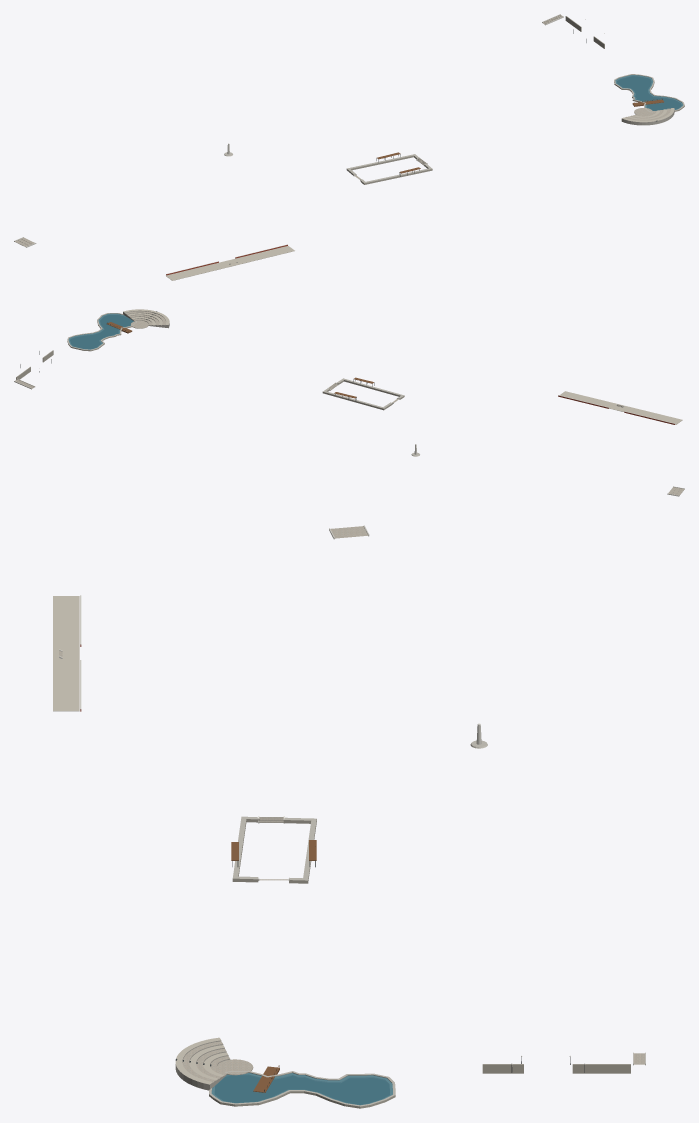
3 renders of one model, top to bottom at view 1: azimuth 30°, elevation 25°; view 2: azimuth 150°, elevation 25°; view 3: azimuth 270°, elevation 25°, orthographic. The views are drawn at different scales.
Parts seen in each view (by area): view 1: haneulmot-basin-curb__graniteWarm, landscape-water, haneulmot-basin-curb__graniteWall, landscape-darkStone, haneulmot-basin-curb__granite, uos-graniteLight; view 2: haneulmot-basin-curb__graniteWarm, landscape-water, landscape-darkStone, haneulmot-basin-curb__graniteWall, uos-graniteLight, haneulmot-basin-curb__granite, amphitheater-tiers__graniteRiser; view 3: haneulmot-basin-curb__graniteWarm, landscape-water, landscape-darkStone, haneulmot-basin-curb__graniteWall, uos-graniteLight, haneulmot-basin-curb__granite.
Boxes of the visible parts, x1=… form: haneulmot-basin-curb__graniteWarm: x1=166, y1=79, x2=682, y2=280; landscape-water: x1=615, y1=75, x2=683, y2=110; haneulmot-basin-curb__graniteWall: x1=166, y1=16, x2=684, y2=280; landscape-darkStone: x1=376, y1=30, x2=680, y2=176; haneulmot-basin-curb__granite: x1=224, y1=74, x2=684, y2=183; uos-graniteLight: x1=15, y1=14, x2=670, y2=263; haneulmot-basin-curb__graniteWarm: x1=69, y1=309, x2=682, y2=424; landscape-water: x1=68, y1=313, x2=133, y2=349; landscape-darkStone: x1=20, y1=311, x2=374, y2=401; haneulmot-basin-curb__graniteWall: x1=16, y1=313, x2=682, y2=424; uos-graniteLight: x1=15, y1=311, x2=684, y2=495; haneulmot-basin-curb__granite: x1=67, y1=313, x2=419, y2=456; amphitheater-tiers__graniteRiser: x1=16, y1=310, x2=683, y2=495; haneulmot-basin-curb__graniteWarm: x1=53, y1=596, x2=392, y2=1097; landscape-water: x1=211, y1=1072, x2=392, y2=1105; landscape-darkStone: x1=175, y1=846, x2=584, y2=1104; haneulmot-basin-curb__graniteWall: x1=53, y1=711, x2=630, y2=1108; uos-graniteLight: x1=59, y1=526, x2=644, y2=1082; haneulmot-basin-curb__granite: x1=209, y1=740, x2=487, y2=1106.
Bounding box in the file's own units: 582 × 23.7 × 244.
Materials: 10 (1 with a texture image).
